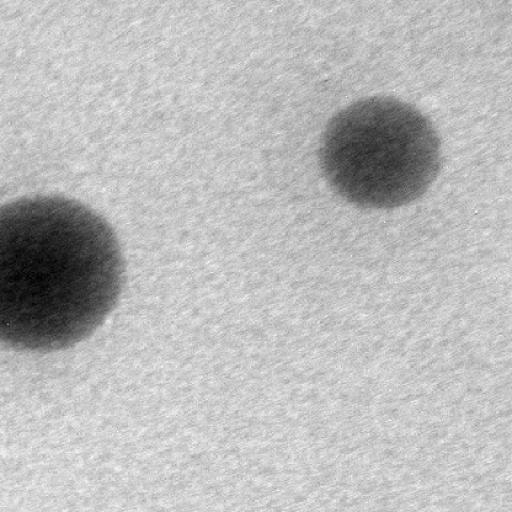Nanoparticles: (0, 194, 127, 350), (316, 94, 441, 208)
